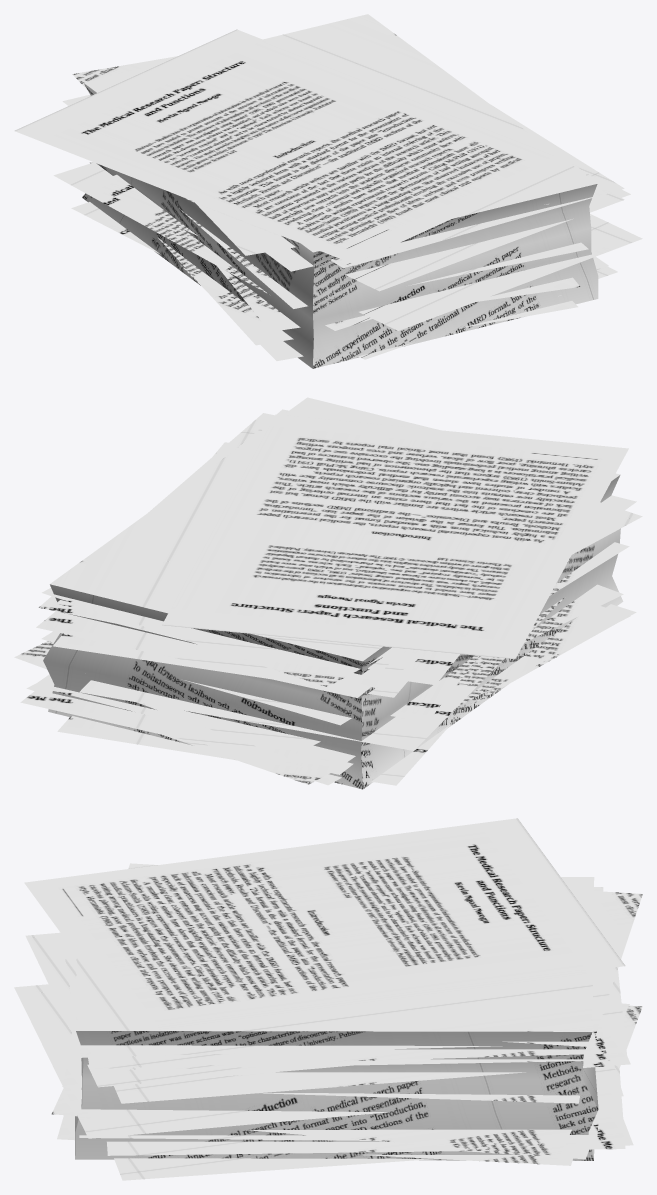
Rendered from papers.glb.
The picture shows the model from 3 angles, top to bottom: view 1: azimuth 30°, elevation 25°; view 2: azimuth 150°, elevation 25°; view 3: azimuth 270°, elevation 25°; orthographic projection. The views are drawn at different scales.
Visible parts, largest first — view 1: SM_PaperStack_13; view 2: SM_PaperStack_13; view 3: SM_PaperStack_13.
Part boxes in pixels (box(x1,y1,x2,y2)): SM_PaperStack_13: box(14, 14, 642, 368); SM_PaperStack_13: box(14, 397, 642, 789); SM_PaperStack_13: box(14, 818, 642, 1180).
Size of the model in its own units: 0.2984 by 0.0761 by 0.3307.
Materials: 1 (1 with a texture image).
